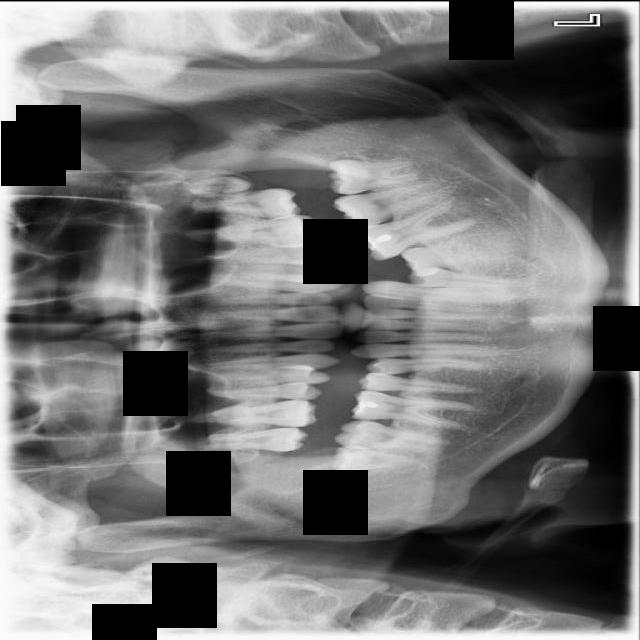73: (560, 40, 579, 44)
BioHorizons Implant: (170, 187, 302, 218)
BioLife Implant: (176, 171, 252, 203)
Biomet 3i Implant: (328, 158, 419, 196)
Blue Sky Bio Implant: (332, 179, 442, 234)
Caries: (177, 425, 310, 457)
Implant: (333, 417, 449, 454)
Keystone Dental Implant: (330, 443, 419, 474)
